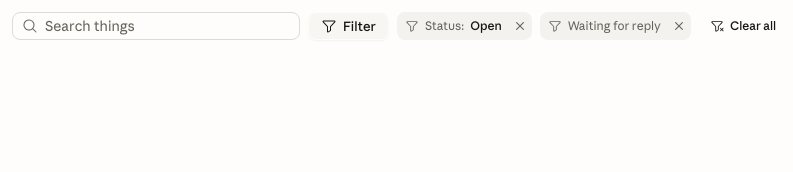
Test case: FilterBar › removes one chip without touching the others
Click the button named "Remove Status filter" at (520, 26), box [508,12,532,40]
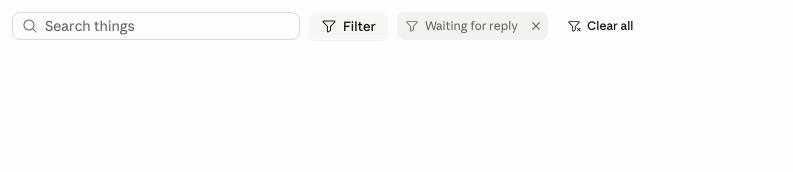
Expected: the button named "Remove Waiting for reply filter" is shown, [524,12,548,40]
Expected: the button "Status" is gone
